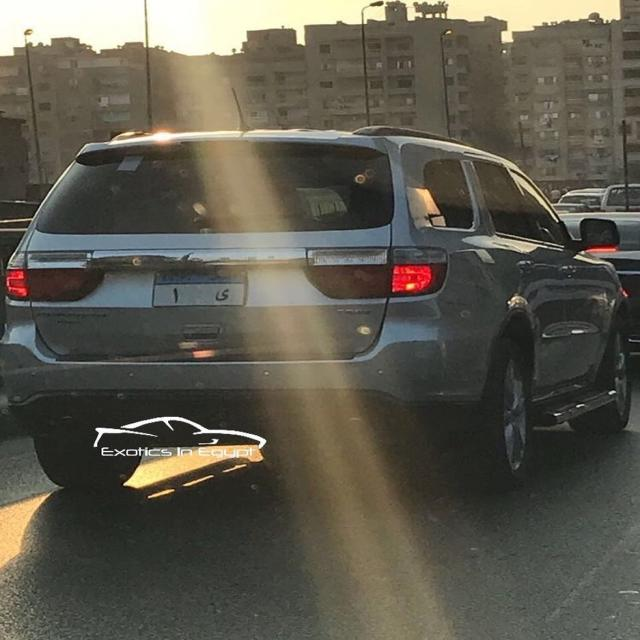License Plate: (148, 265, 250, 310)
